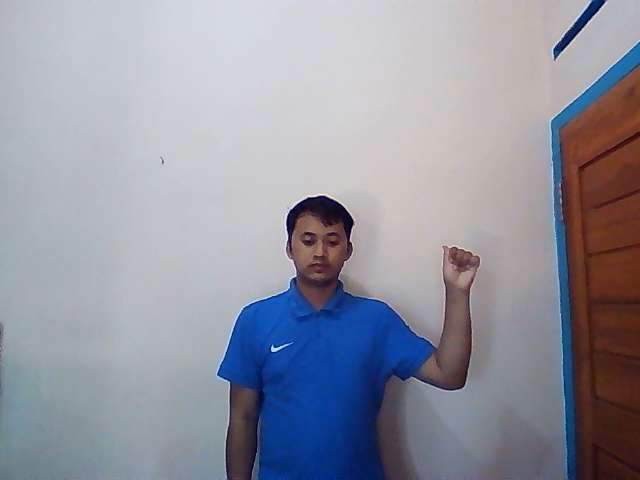A: (441, 243, 481, 287)
